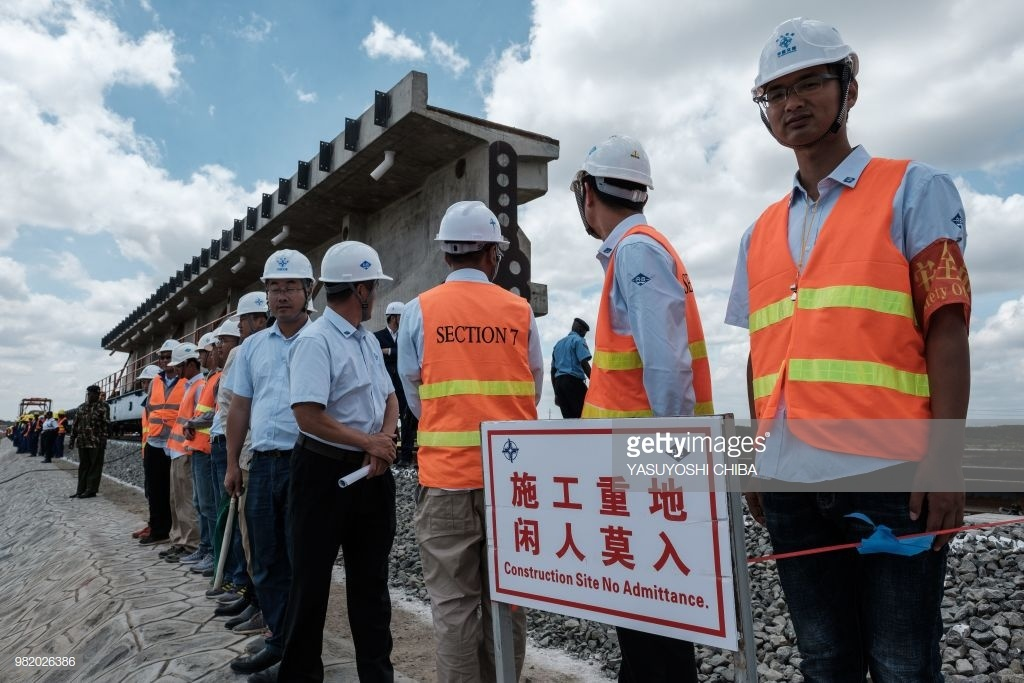white: (751, 19, 860, 148), (576, 130, 652, 235), (320, 240, 382, 324), (440, 198, 503, 277), (262, 248, 316, 324), (235, 291, 270, 335), (218, 318, 241, 358), (173, 343, 198, 378), (196, 332, 214, 367), (158, 340, 178, 371), (384, 301, 404, 331), (140, 364, 159, 392)
